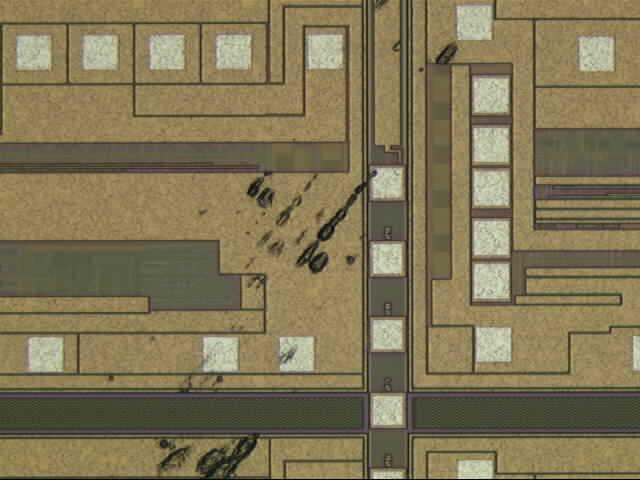SCRATCH: (153, 36, 468, 480)
